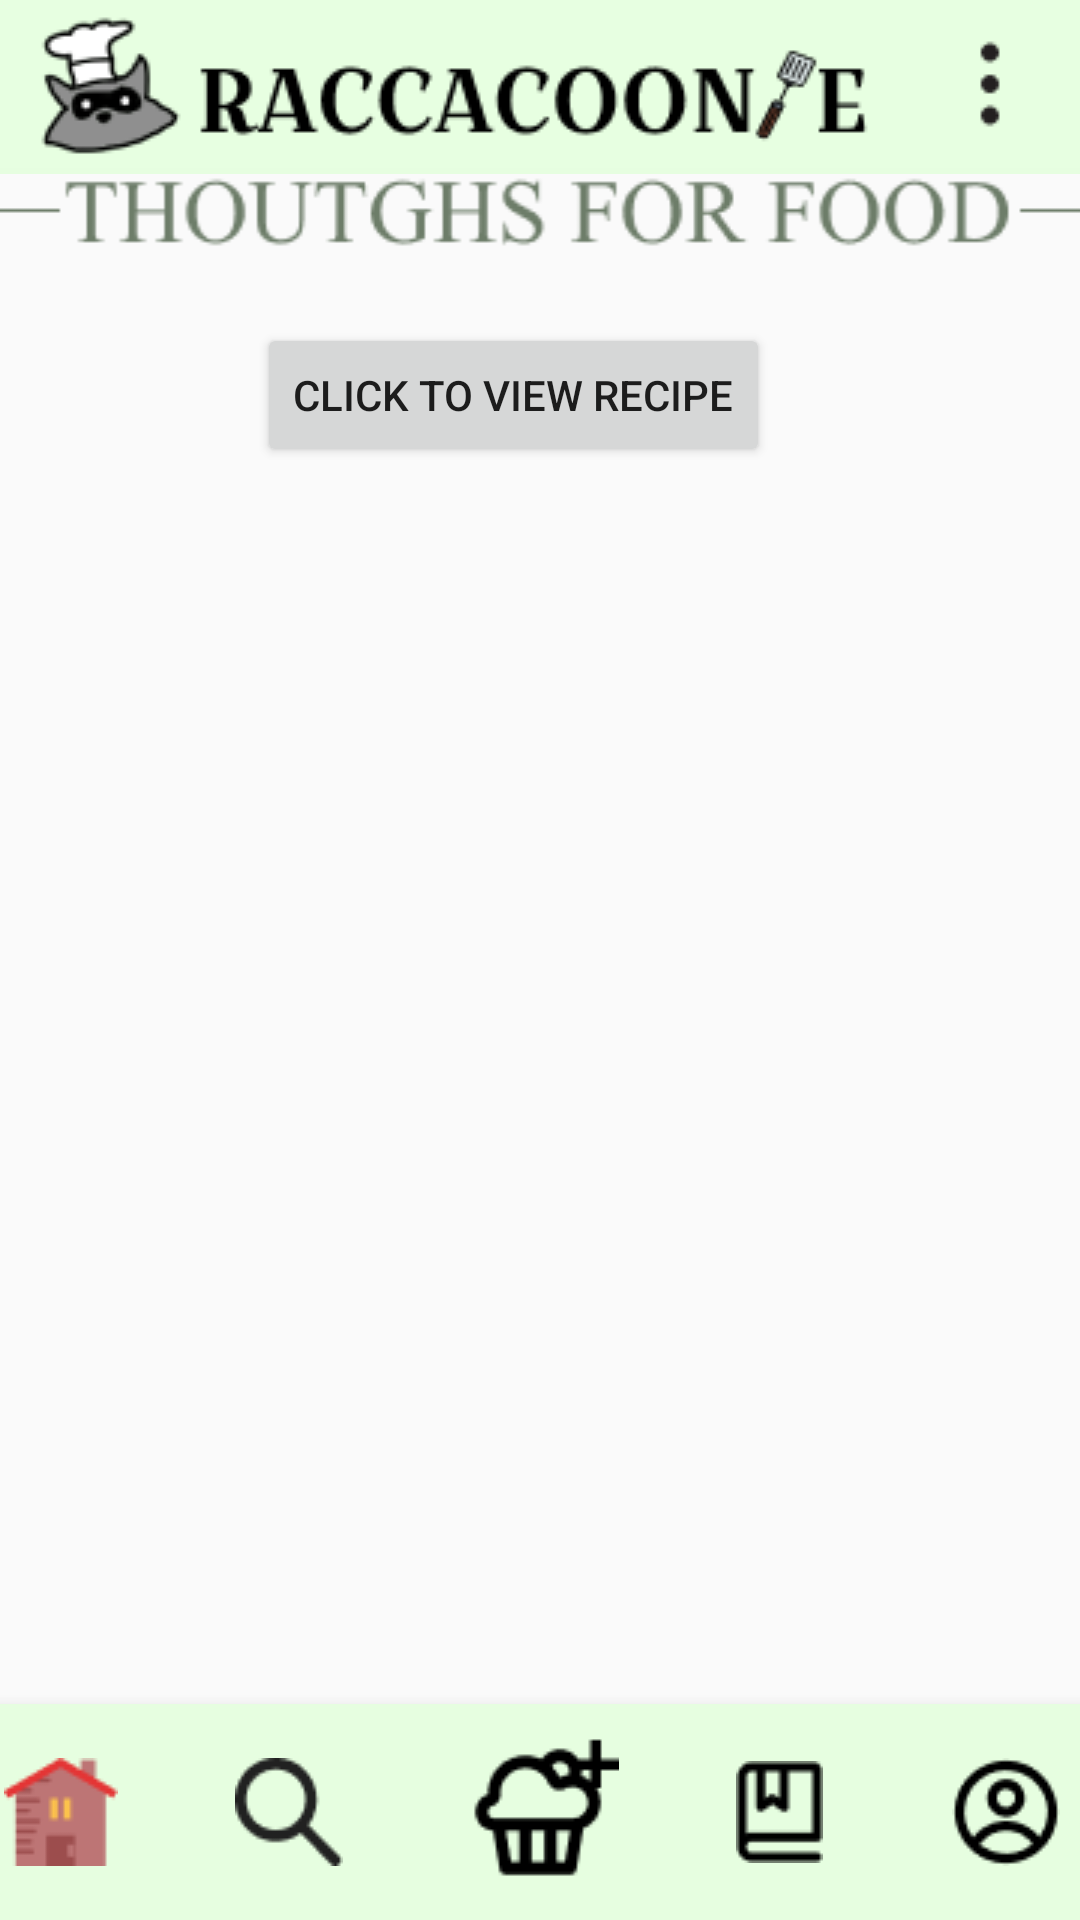

Where to tap for icons on this 1080 x 1920 app screen, as (x=x, y=y):
create: (x=546, y=1807)
options: (x=990, y=84)
profile: (x=1006, y=1812)
saved: (x=779, y=1812)
search: (x=289, y=1812)
